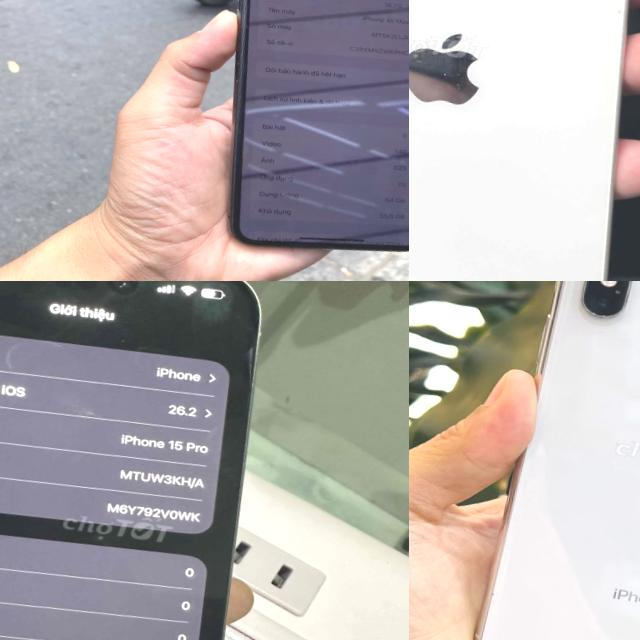gen_12_13: (409, 0, 628, 281)
gen_15: (0, 281, 288, 640)
gen_x_xs: (465, 281, 640, 640), (201, 0, 409, 271)
